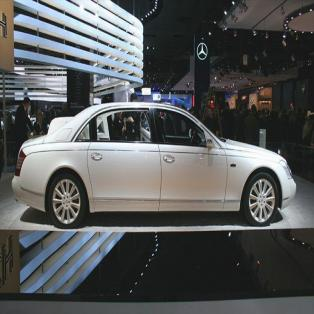Auto: (11, 100, 297, 225)
